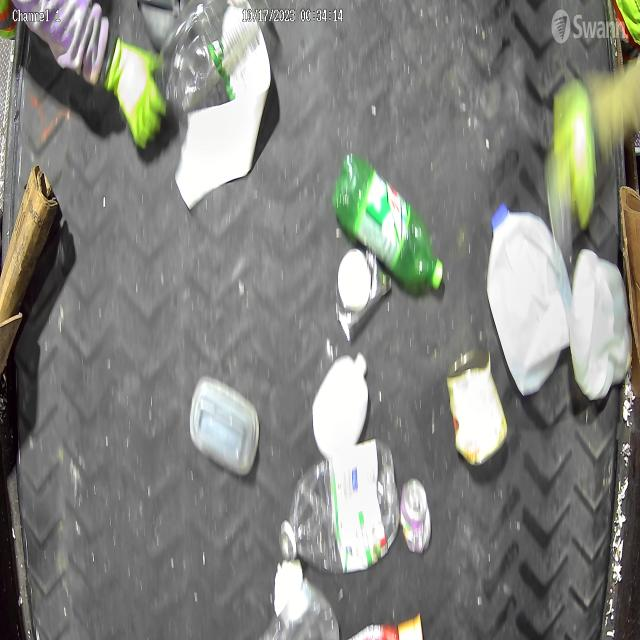can: (447, 349, 508, 467), (336, 246, 393, 340), (400, 476, 432, 556)
milk_jug: (486, 202, 574, 400), (569, 245, 633, 401)
plastic_bottle: (280, 440, 398, 576)
